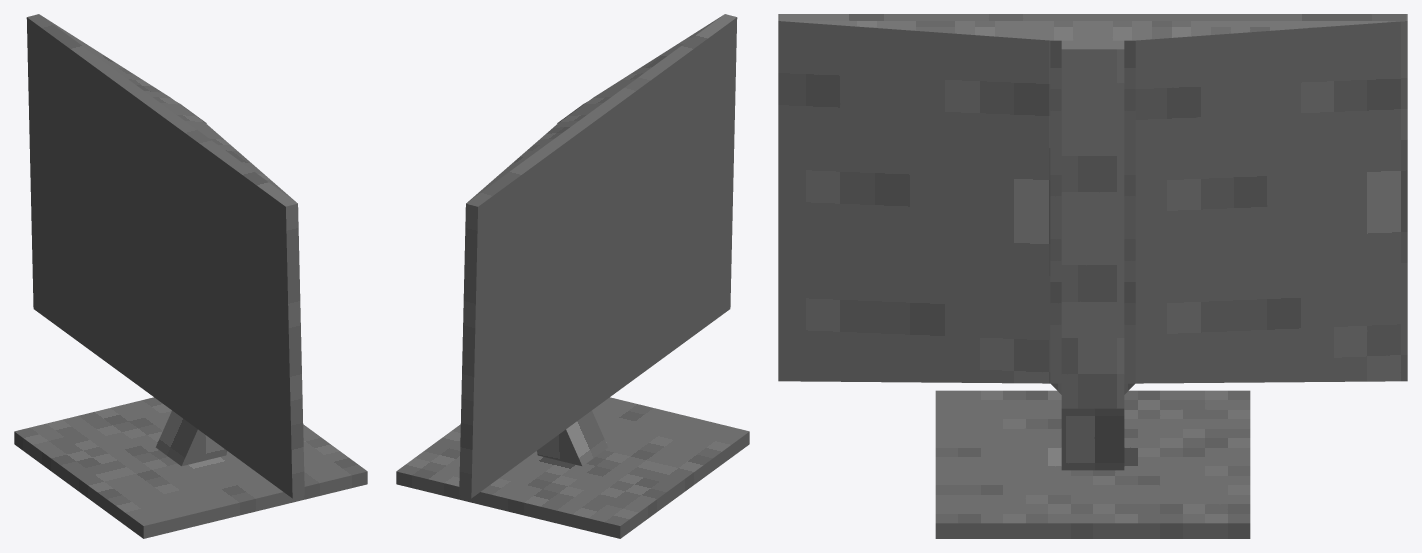
Rendered from monitor_desk.obj.
3 renders of one model, left to right at view 1: azimuth 30°, elevation 25°; view 2: azimuth 150°, elevation 25°; view 3: azimuth 270°, elevation 25°, orthographic. The views are drawn at different scales.
Parts seen in each view (by area): view 1: Cube_screen, Cube_frame; view 2: Cube_screen, Cube_frame; view 3: Cube_frame.
Part boxes in pixels (left/top/right/bottom): Cube_screen: left=26, top=17, right=292, bottom=498; Cube_frame: left=14, top=14, right=367, bottom=538; Cube_screen: left=471, top=17, right=737, bottom=498; Cube_frame: left=396, top=14, right=749, bottom=538; Cube_frame: left=778, top=14, right=1407, bottom=538.
Bounding box in the file's own units: 0.4 × 0.6154 × 0.8007.
